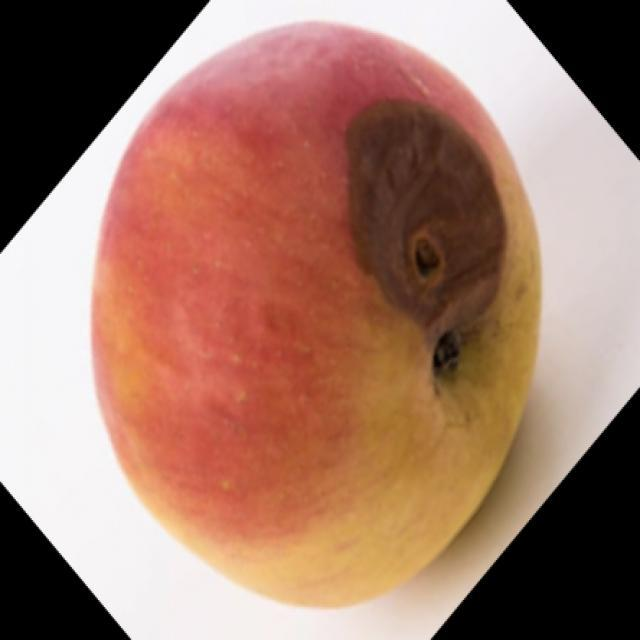Rotten: (88, 18, 542, 602)
